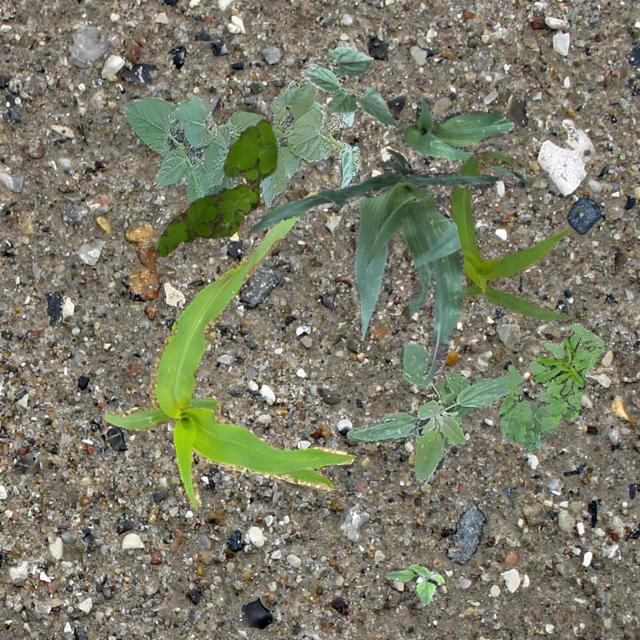crop: (104, 191, 356, 508), (247, 148, 498, 386), (120, 76, 358, 206), (448, 150, 570, 320), (394, 96, 530, 188), (299, 46, 396, 126)
weed: (346, 342, 524, 482), (154, 118, 278, 256), (498, 322, 602, 452), (532, 332, 588, 394), (384, 562, 442, 604)
